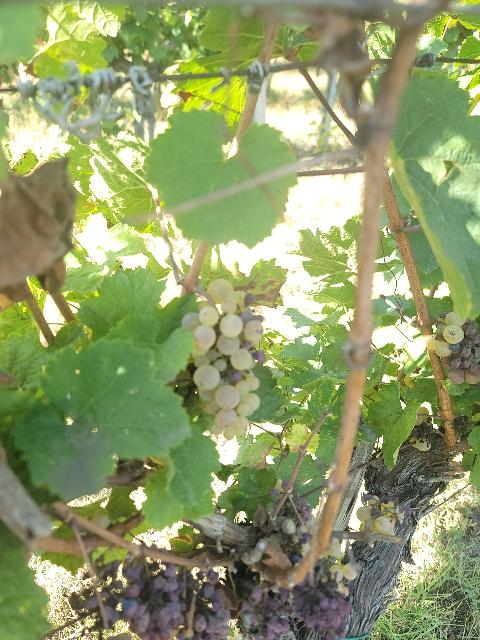grapes: (181, 279, 264, 440), (428, 311, 480, 385)
